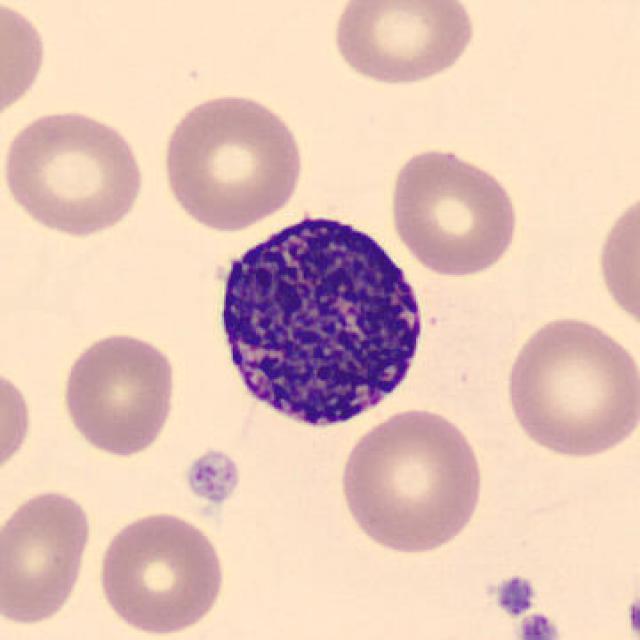Basophil: (202, 196, 434, 439)
Platelets: (181, 446, 242, 508), (491, 573, 538, 619), (514, 610, 562, 640), (622, 590, 640, 640)
RBC: (334, 402, 487, 557), (156, 88, 308, 235), (502, 310, 638, 462), (0, 104, 149, 240), (384, 143, 523, 280), (93, 508, 230, 636), (57, 328, 179, 460), (0, 485, 94, 629), (327, 0, 480, 88), (592, 185, 638, 337), (0, 0, 50, 127), (0, 360, 36, 485)
